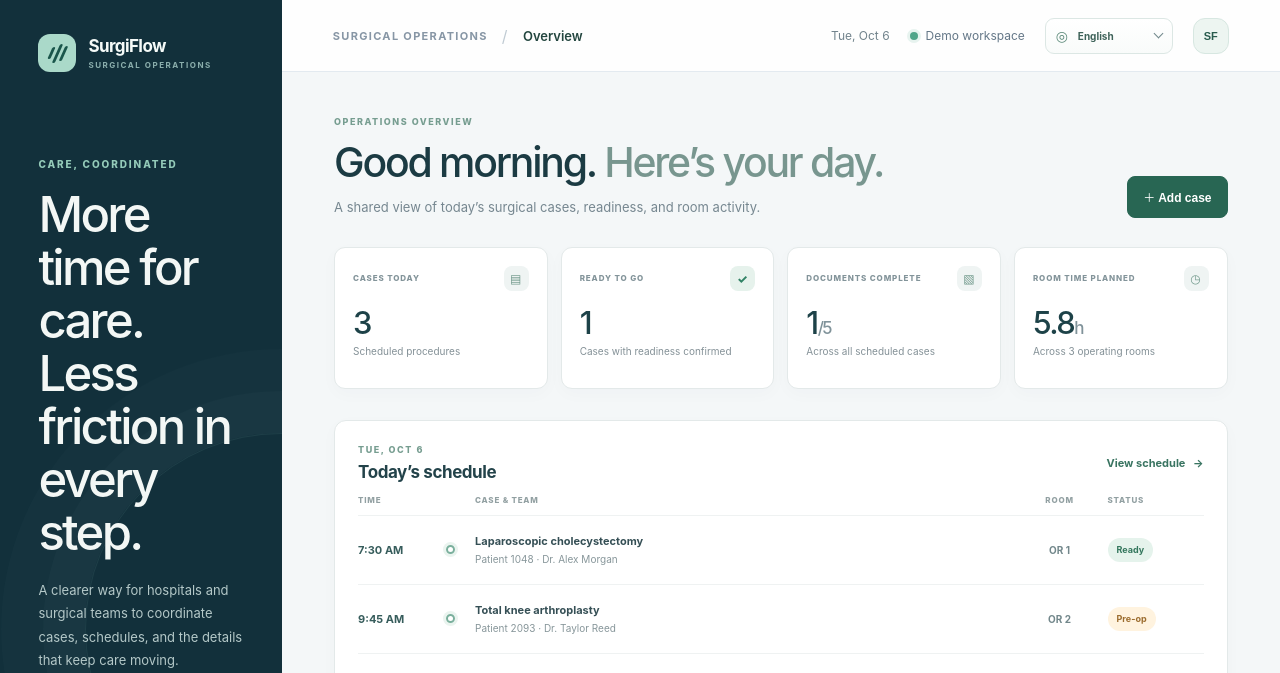
Test: HomePage › translates route content and navigation when the language changes
The width and height of the screenshot is (1280, 673).
Select "Македонски" in the dropdown named "Language" at (1109, 36), box [1045, 18, 1173, 54]
(page scrolled)
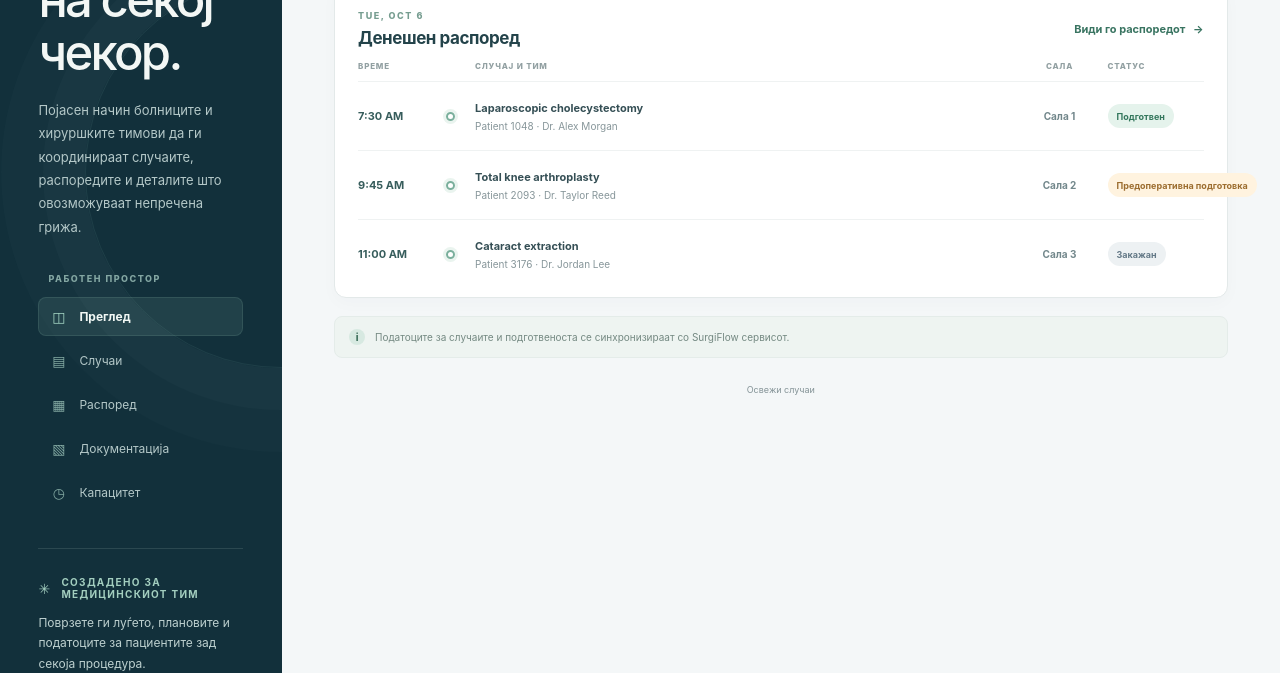
Click the button "▤ Случаи" at (141, 361), box [38, 341, 243, 380]
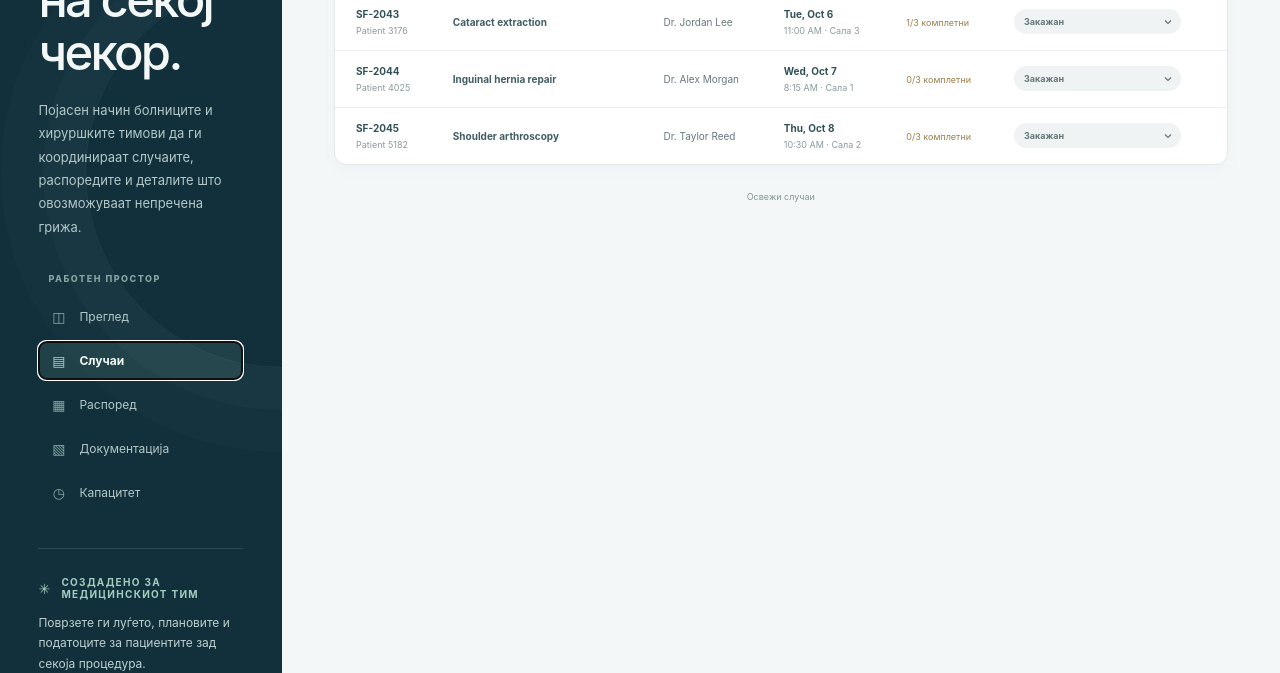
Click the button "▦ Распоред" at (141, 405), box [38, 385, 243, 424]
(page scrolled)
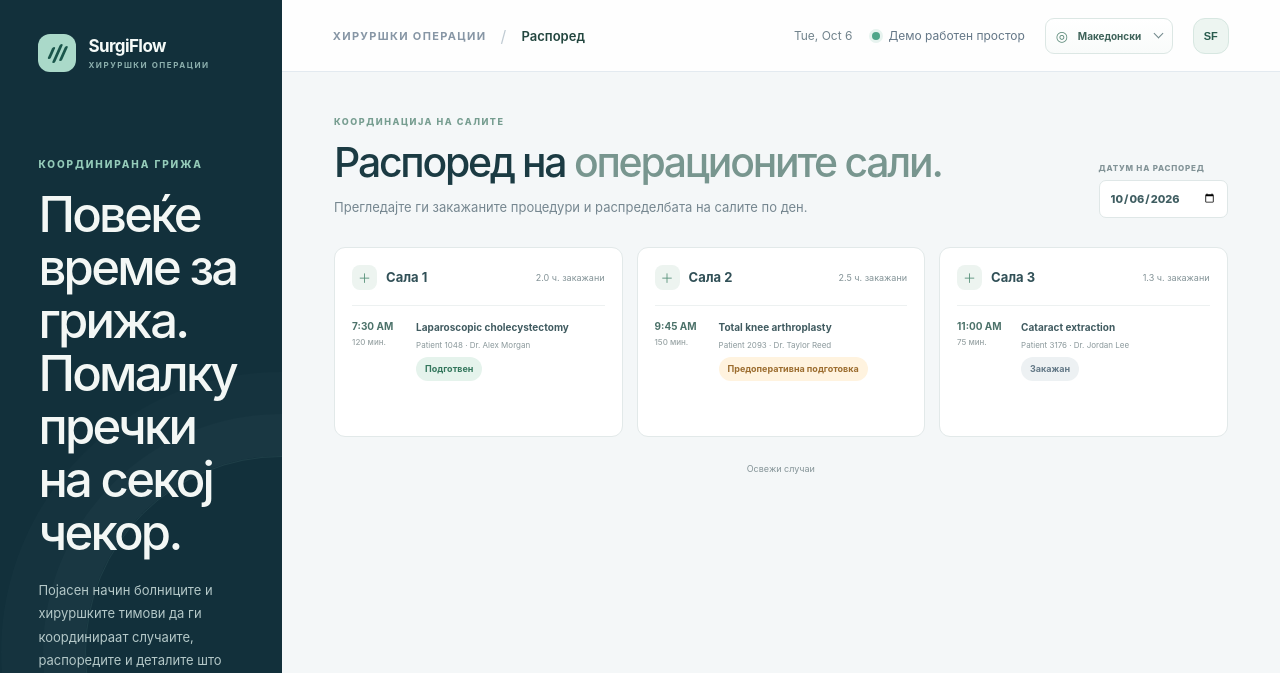
expect the heading "Сала 1" is shown: met, box [386, 269, 427, 285]
expect the heading "Распоред на операционите сали." is shown: met, box [334, 139, 942, 186]
